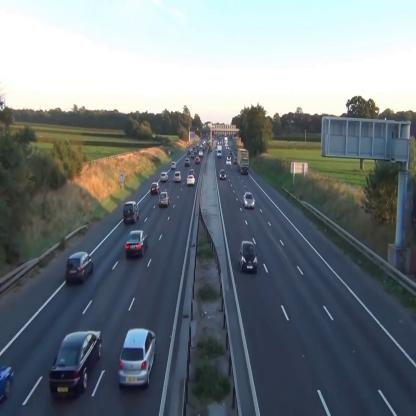car: (49, 330, 103, 397), (117, 327, 157, 387), (65, 252, 94, 283), (125, 230, 149, 258), (240, 241, 258, 273), (124, 201, 139, 222), (243, 192, 255, 209), (158, 192, 170, 206), (150, 182, 160, 194), (186, 175, 196, 186), (218, 168, 226, 181), (174, 170, 182, 182), (160, 172, 168, 182), (184, 157, 190, 166), (171, 161, 176, 169), (189, 169, 194, 177), (196, 156, 200, 164)
lorry: (238, 148, 249, 174), (217, 144, 222, 157)
